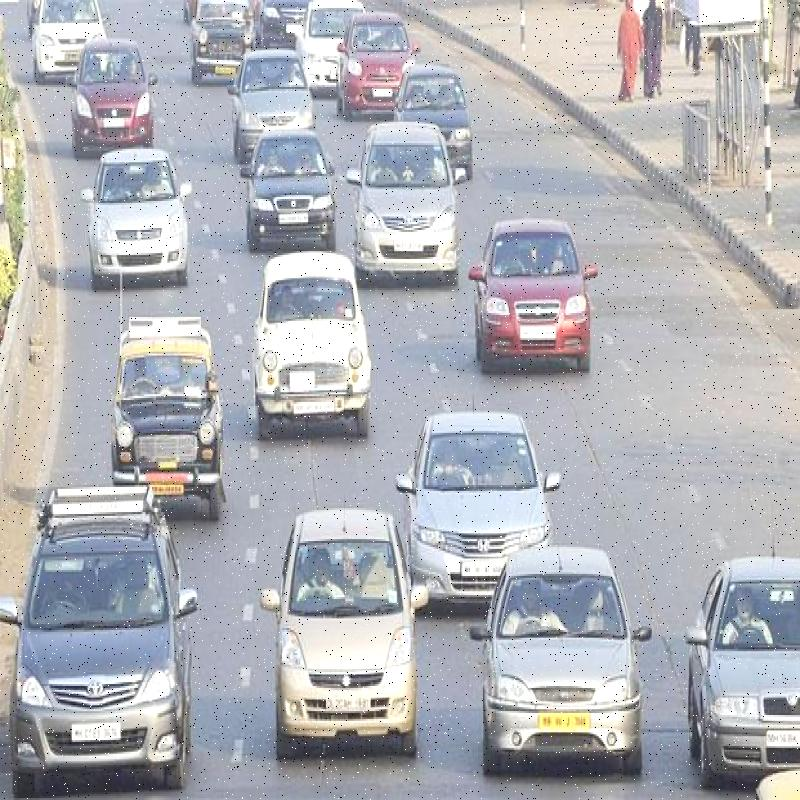car: (33, 484, 198, 774), (287, 508, 428, 754), (482, 551, 639, 763), (422, 404, 577, 594), (686, 543, 800, 762), (353, 127, 469, 308), (248, 257, 366, 417), (474, 223, 590, 381), (113, 327, 219, 499), (235, 116, 346, 266), (94, 134, 186, 277), (70, 41, 156, 169), (227, 55, 318, 166), (397, 67, 474, 179), (335, 16, 414, 115), (30, 4, 106, 91), (181, 8, 256, 84)
